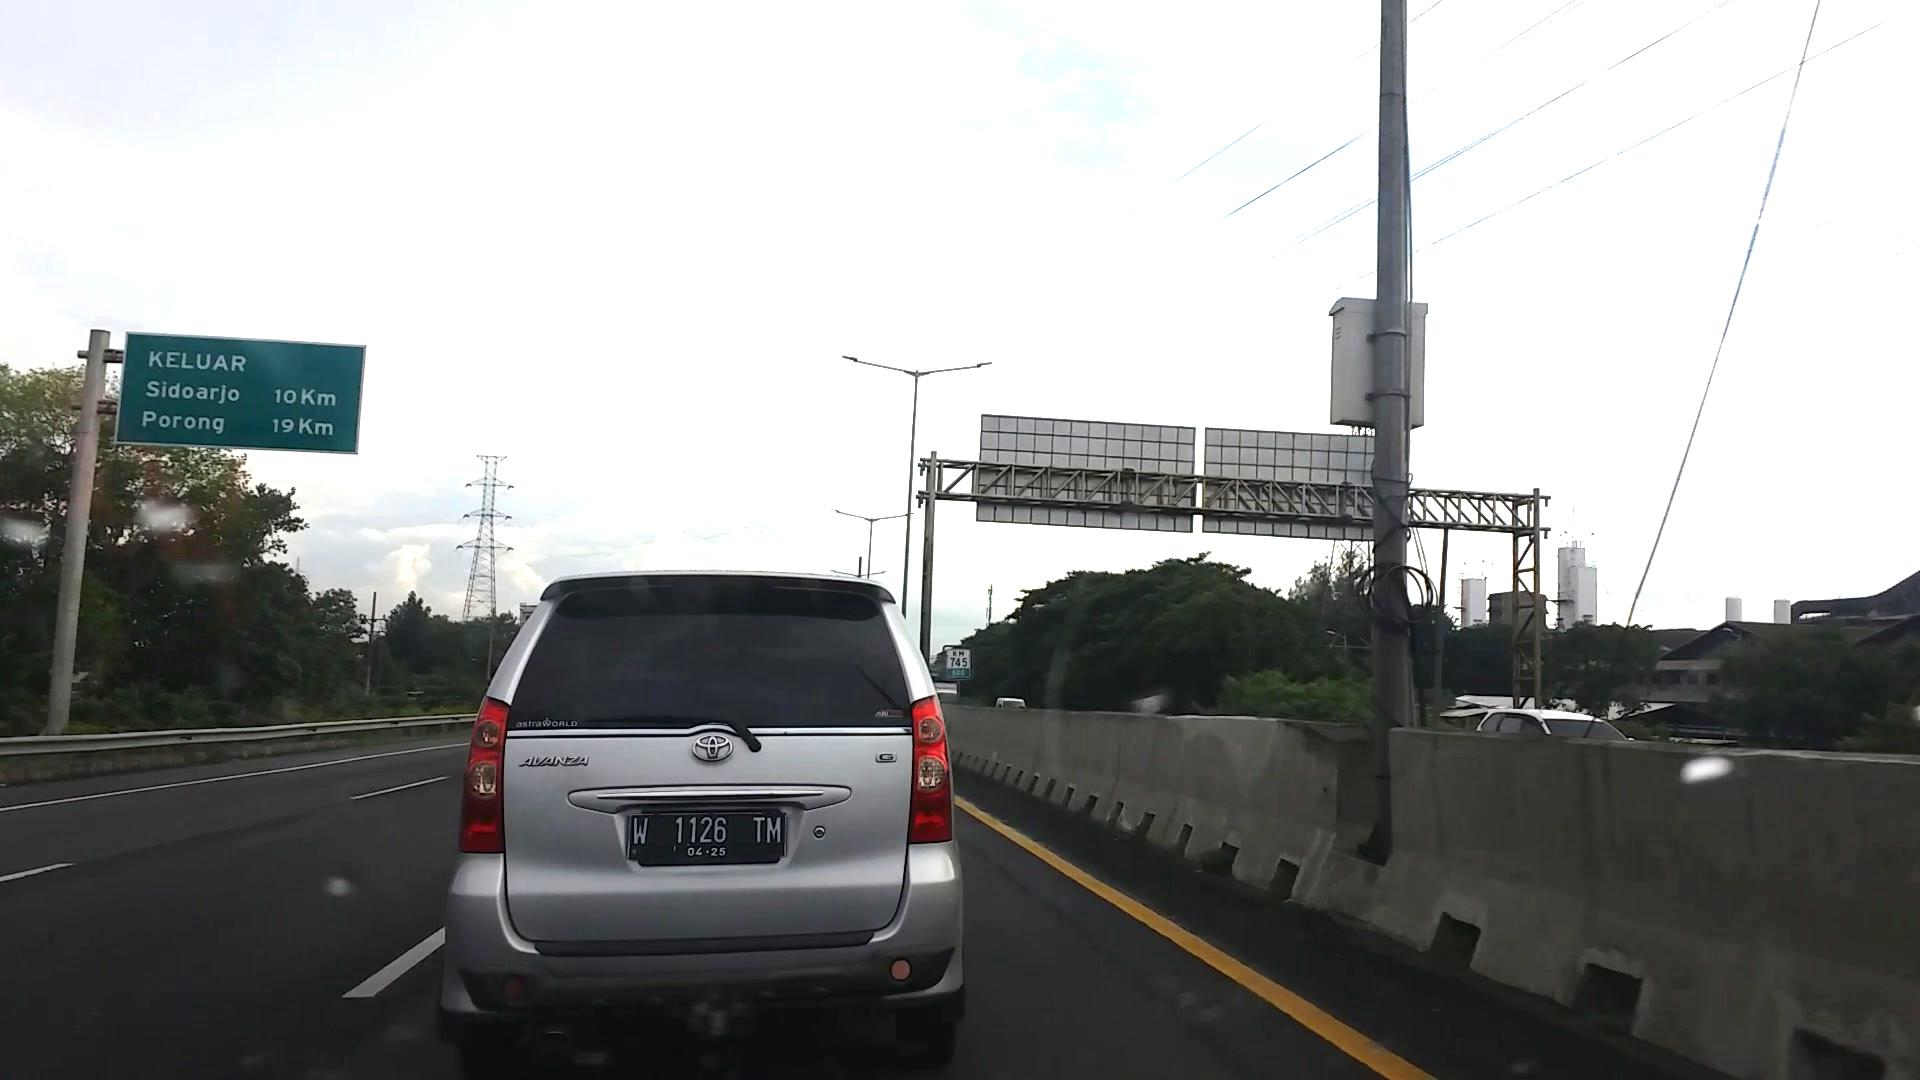plate_positive: (626, 814, 786, 857)
